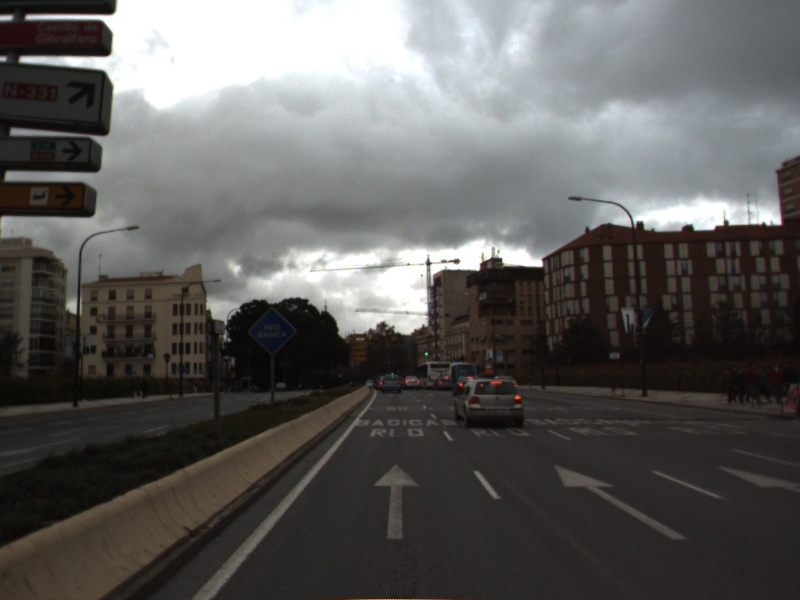STRAIGHT: (551, 462, 692, 543), (370, 461, 423, 541), (714, 464, 800, 495)
